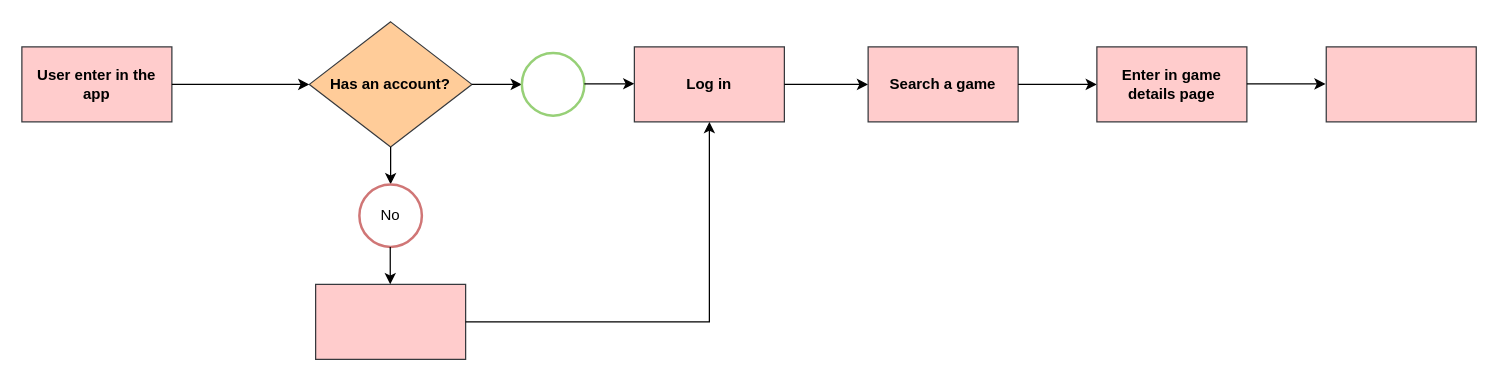
The diagram is 1499 pixels wide and 381 high, and some of its shapes have lost their labels. Here are the shapes that lost their labels. From the top down, the centre of each, then its label:
(x=552, y=83): Yes
(x=1400, y=84): Add game to list
(x=390, y=321): Create an account
